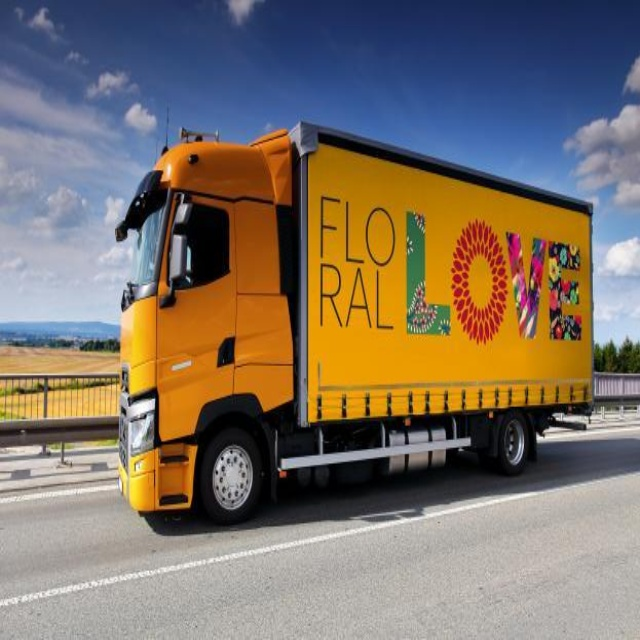Truck: (115, 118, 595, 527)
